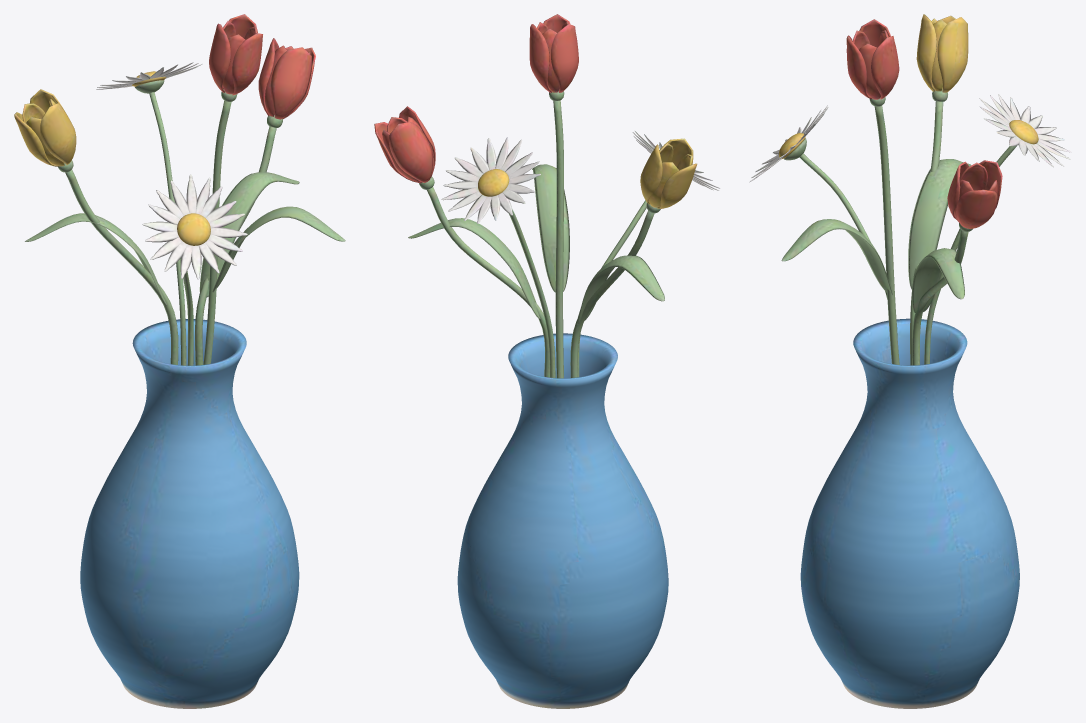
Rendered from vase.glb.
3 renders of one model, left to right at view 1: azimuth 30°, elevation 25°; view 2: azimuth 150°, elevation 25°; view 3: azimuth 270°, elevation 25°, orthographic. The views are drawn at different scales.
Visible parts, largest first — view 1: vase_body; view 2: vase_body; view 3: vase_body.
Part boxes in pixels (x1,y1,x2,y2): vase_body: (14,14,345,708); vase_body: (374,14,719,708); vase_body: (750,14,1071,708).
Size of the model in its own units: 0.2431 by 0.4939 by 0.2156.
1 material, 1 textured.
